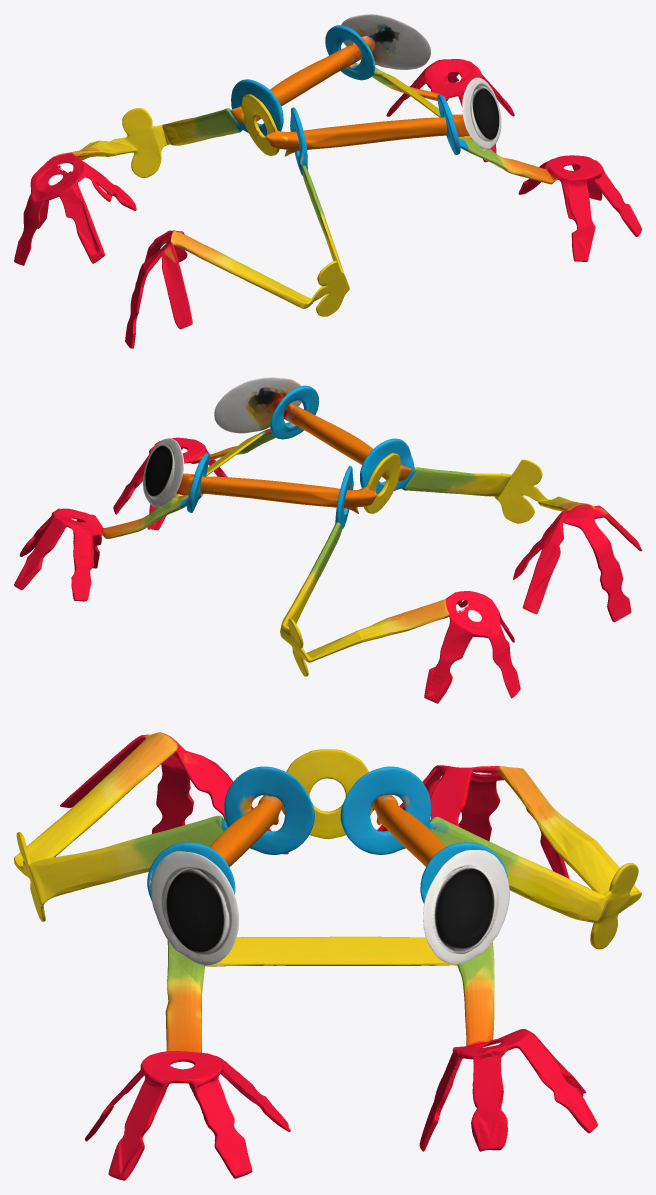
The model's file is stemifrog.glb.
The picture shows the model from 3 angles, top to bottom: view 1: azimuth 30°, elevation 25°; view 2: azimuth 150°, elevation 25°; view 3: azimuth 270°, elevation 25°; orthographic projection. The views are drawn at different scales.
Parts seen in each view (by area): view 1: tripo_node_e2659f0f-4134-4ef6-828e-c5bbbaa44b2e; view 2: tripo_node_e2659f0f-4134-4ef6-828e-c5bbbaa44b2e; view 3: tripo_node_e2659f0f-4134-4ef6-828e-c5bbbaa44b2e.
Part boxes in pixels (x1,y1,x2,y2): tripo_node_e2659f0f-4134-4ef6-828e-c5bbbaa44b2e: (14, 14, 641, 348); tripo_node_e2659f0f-4134-4ef6-828e-c5bbbaa44b2e: (14, 377, 641, 703); tripo_node_e2659f0f-4134-4ef6-828e-c5bbbaa44b2e: (14, 732, 641, 1180).
Size of the model in its own units: 1 by 0.3252 by 0.7767.
1 material, 1 textured.
